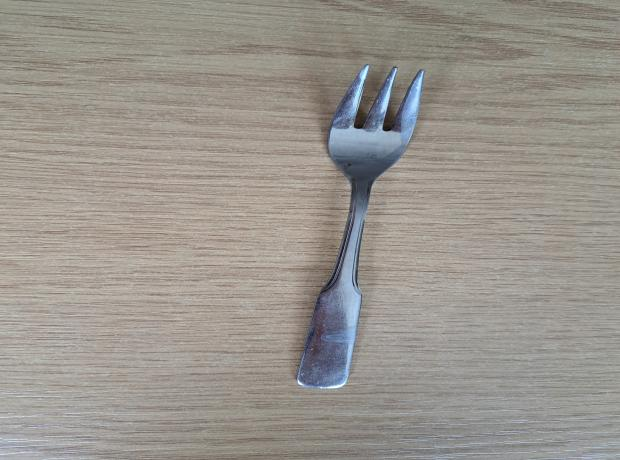metal: (293, 66, 424, 390)
